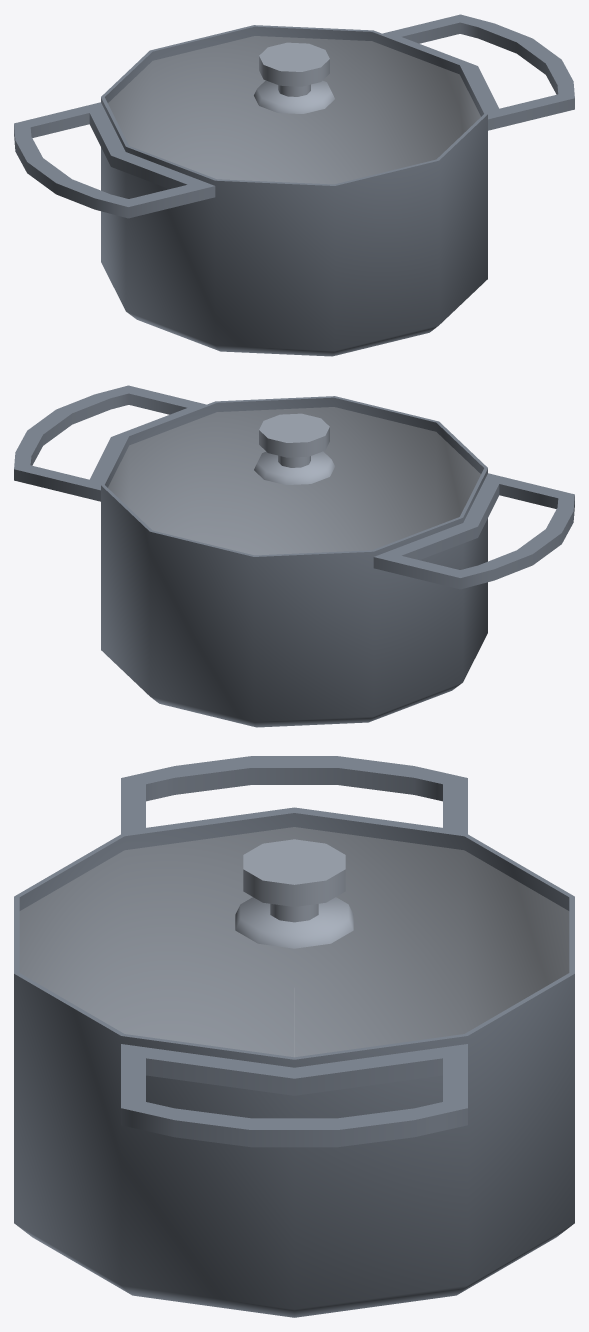
Rendered from casserole-pot.glb.
The picture shows the model from 3 angles, top to bottom: view 1: azimuth 30°, elevation 25°; view 2: azimuth 150°, elevation 25°; view 3: azimuth 270°, elevation 25°; orthographic projection. The views are drawn at different scales.
Visible parts, largest first — view 1: pan_casserole_pot.001_Cylinder.046, pan_casserole_pot_lid_Cylinder.048; view 2: pan_casserole_pot.001_Cylinder.046, pan_casserole_pot_lid_Cylinder.048; view 3: pan_casserole_pot.001_Cylinder.046, pan_casserole_pot_lid_Cylinder.048.
Boxes of the visible parts, box(x1,y1,x2,y2) form: pan_casserole_pot.001_Cylinder.046: box(14, 14, 574, 356); pan_casserole_pot_lid_Cylinder.048: box(108, 36, 480, 183); pan_casserole_pot.001_Cylinder.046: box(14, 385, 574, 727); pan_casserole_pot_lid_Cylinder.048: box(108, 407, 480, 554); pan_casserole_pot.001_Cylinder.046: box(14, 756, 574, 1317); pan_casserole_pot_lid_Cylinder.048: box(20, 827, 568, 1056).
Bounding box in the file's own units: 7.35 × 3.11 × 4.66.
Materials: 2 (2 with a texture image).
